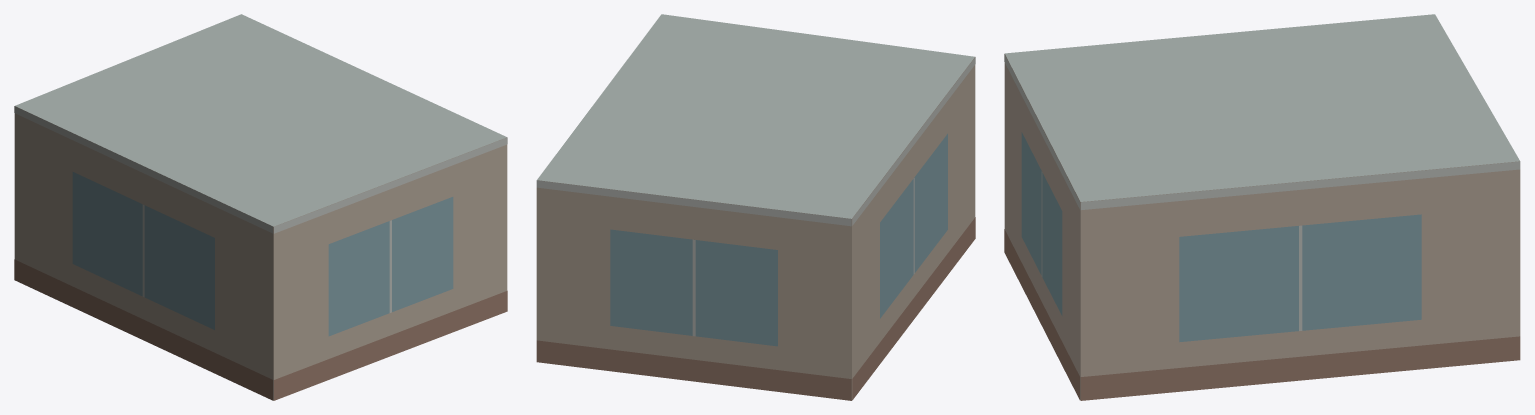
The model's file is survey-upis-32819689.glb.
3 views of the same model, side by side, from view 1: azimuth 30°, elevation 25°; view 2: azimuth 150°, elevation 25°; view 3: azimuth 270°, elevation 25° (orthographic). The views are drawn at different scales.
Visible parts, largest first — view 1: survey-upis-32819689.tmp; view 2: survey-upis-32819689.tmp; view 3: survey-upis-32819689.tmp.
Part boxes in pixels (<box>): survey-upis-32819689.tmp: <box>14,14,507,400</box>; survey-upis-32819689.tmp: <box>536,14,975,400</box>; survey-upis-32819689.tmp: <box>1004,14,1520,400</box>.
Bounding box in the file's own units: 6.2 × 3.05 × 7.19.
